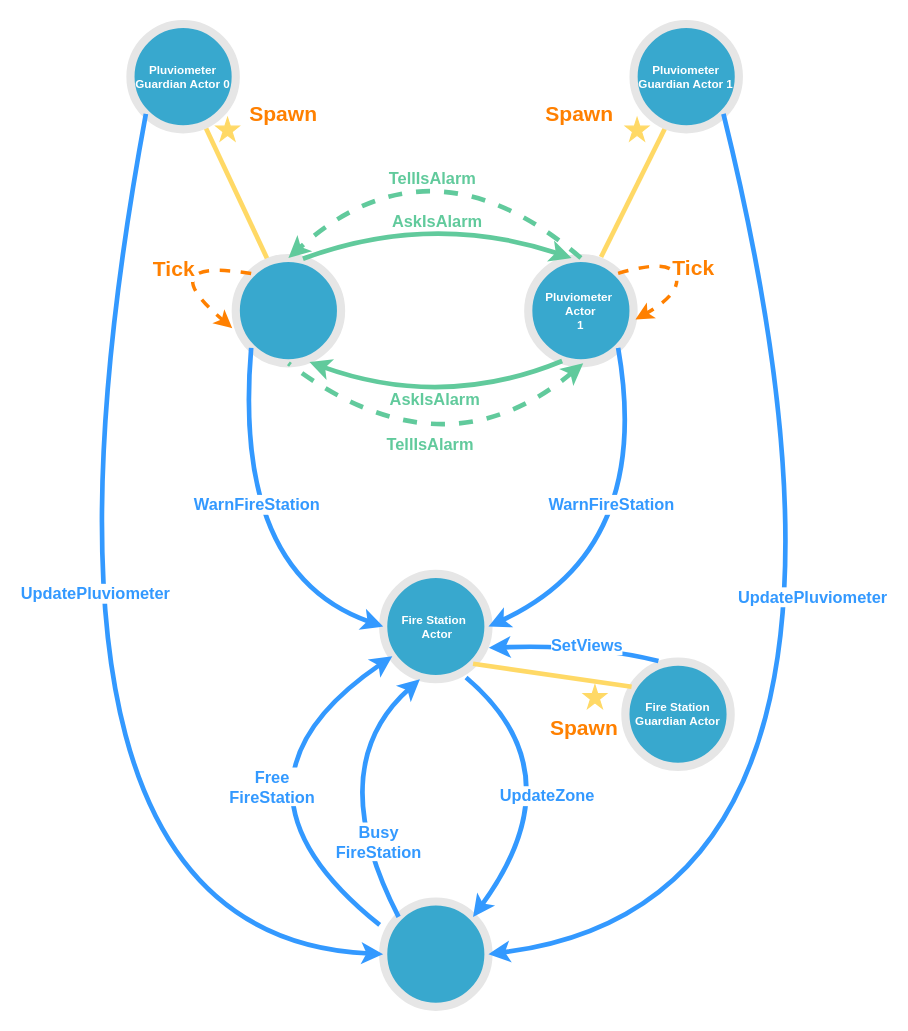
The diagram is 908 pixels wide and 1031 high, and some of its shapes have lost their labels. Each missing label, with the box of its shape:
Pluviometer Actor 0: (231, 253, 345, 367)
View Actor: (378, 897, 492, 1010)
